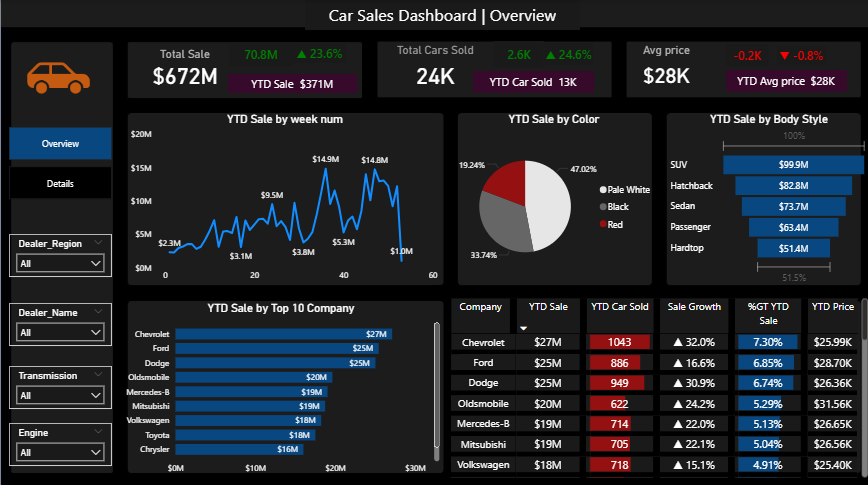

The page's visual inventory and layout, read from the dashboard file:
{"tool":"powerbi","page":{"name":"Overview","canvas":[1280,720],"ordinal":0},"visuals":[{"type":"advanceCardE03760C5AB684758B56AA29F9E6C257B","title":"Total Cars Sold","fields":{"mainMeasure":["car_data.Total_Cars_Sold"]},"box":[552.5,63.1,174.1,79.3],"z":0,"group":"g3"},{"type":"advanceCardE03760C5AB684758B56AA29F9E6C257B","title":"Avg price","fields":{"mainMeasure":["car_data.Avg Price"]},"box":[891.9,63.2,174.9,79.3],"z":0,"group":"g1"},{"type":"advanceCardE03760C5AB684758B56AA29F9E6C257B","title":"Total Sale","fields":{"mainMeasure":["car_data.Total Sale"]},"box":[179.3,69.1,185.1,67.6],"z":0,"group":"g2"},{"type":"slicer","fields":{"Values":["car_data.Transmission"]},"box":[13.2,537.8,151.3,63.2],"z":0},{"type":"advanceCardE03760C5AB684758B56AA29F9E6C257B","fields":{"mainMeasure":["car_data.YTD Price"]},"box":[1066.8,102.9,177.8,32.3],"z":1000,"group":"g4"},{"type":"advanceCardE03760C5AB684758B56AA29F9E6C257B","fields":{"mainMeasure":["car_data.YTD Sold"]},"box":[694.6,104.8,177.8,32.3],"z":1000,"group":"g3"},{"type":"advanceCardE03760C5AB684758B56AA29F9E6C257B","fields":{"mainMeasure":["car_data.YTD Sale"]},"box":[335.1,108.8,189.6,27.9],"z":1000,"group":"g2"},{"type":"slicer","fields":{"Values":["car_data.Engine"]},"box":[13.2,621.6,151.3,63.2],"z":1000},{"type":"shape","box":[799.4,63.1,72,32.3],"z":2000,"group":"g3"},{"type":"shape","box":[430.6,64.7,77.9,27.9],"z":2000,"group":"g2"},{"type":"shape","box":[1141.7,67.6,72,27.9],"z":2000,"group":"g4"},{"type":"slicer","fields":{"Values":["car_data.Dealer_Name"]},"box":[13.2,445.2,151.3,63.2],"z":2000},{"type":"funnel","title":"YTD Sale by Body Style","fields":{"Y":["car_data.YTD Sale"],"Category":["car_data.Body Style"]},"box":[980.1,164.6,299.8,258.6],"z":4000},{"type":"pieChart","title":"YTD Sale by Color","fields":{"Y":["car_data.YTD"],"Category":["car_data.Color"]},"box":[658.3,164.6,311.5,258.6],"z":5000},{"type":"pivotTable","title":"Company wise Sales Trend","fields":{"Rows":["car_data.Company"],"Values":["car_data.YTD Sale","car_data.YTD Sold","car_data.Sale Growth","Divide(car_data.YTD Sale, ScopedEval(car_data.YTD Sale, []))","car_data.YTD Price"]},"box":[658.3,433.5,621.6,273.3],"z":6000},{"type":"group","id":"g1","title":"Group 1","box":[891.9,63.2,174.9,79.3],"z":7000},{"type":"barChart","title":"YTD Sale by Top 10 Company","fields":{"Category":["car_data.Company"],"Y":["car_data.YTD Sale"]},"box":[174.9,442.3,476.1,264.5],"z":8000},{"type":"textbox","box":[448.2,0,404.1,44.1],"z":9000},{"type":"group","id":"g2","title":"Group 2","box":[179.3,63.2,345.3,73.5],"z":11000},{"type":"group","id":"g3","title":"Group 3","box":[552.5,60.2,319.9,82.3],"z":12000},{"type":"shape","box":[336.5,63.2,94,33.8],"z":12002,"group":"g2"},{"type":"shape","box":[725.9,60.2,73.5,38.2],"z":12004,"group":"g3"},{"type":"shape","box":[1066.8,64.7,63.2,32.3],"z":12004,"group":"g4"},{"type":"group","id":"g4","title":"Group 4","box":[1066.8,64.7,177.8,70.5],"z":13000},{"type":"areaChart","title":"YTD Sale by week num","fields":{"Category":["DateTable.week num"],"Y":["car_data.Total Sale"]},"box":[186.6,164.6,464.3,258.6],"z":13001},{"type":"slicer","fields":{"Values":["car_data.Dealer_Region"]},"box":[13.2,343.8,151.3,63.2],"z":13002},{"type":"pageNavigator","box":[13.2,186.6,151.3,107.3],"z":13003},{"type":"image","box":[0,64.7,171.9,99.9],"z":13004}]}

Visuals, with their boxes in screenshot pixels (x1, y1, x2, y2), scaled from the page's 1280x720 canvas onto the 868x485 screenshot:
"Total Cars Sold" advanceCardE03760C5AB684758B56AA29F9E6C257B: [x1=375, y1=43, x2=493, y2=96]
"Avg price" advanceCardE03760C5AB684758B56AA29F9E6C257B: [x1=605, y1=43, x2=723, y2=96]
"Total Sale" advanceCardE03760C5AB684758B56AA29F9E6C257B: [x1=122, y1=47, x2=247, y2=92]
slicer - car_data.Transmission: [x1=9, y1=362, x2=112, y2=405]
advanceCardE03760C5AB684758B56AA29F9E6C257B - car_data.YTD Price: [x1=723, y1=69, x2=844, y2=91]
advanceCardE03760C5AB684758B56AA29F9E6C257B - car_data.YTD Sold: [x1=471, y1=71, x2=592, y2=92]
advanceCardE03760C5AB684758B56AA29F9E6C257B - car_data.YTD Sale: [x1=227, y1=73, x2=356, y2=92]
slicer - car_data.Engine: [x1=9, y1=419, x2=112, y2=461]
shape: [x1=542, y1=43, x2=591, y2=64]
shape: [x1=292, y1=44, x2=345, y2=62]
shape: [x1=774, y1=46, x2=823, y2=64]
slicer - car_data.Dealer_Name: [x1=9, y1=300, x2=112, y2=342]
"YTD Sale by Body Style" funnel: [x1=665, y1=111, x2=867, y2=285]
"YTD Sale by Color" pieChart: [x1=446, y1=111, x2=658, y2=285]
"Company wise Sales Trend" pivotTable: [x1=446, y1=292, x2=867, y2=476]
"Group 1" group: [x1=605, y1=43, x2=723, y2=96]
"YTD Sale by Top 10 Company" barChart: [x1=119, y1=298, x2=441, y2=476]
textbox: [x1=304, y1=0, x2=578, y2=30]
"Group 2" group: [x1=122, y1=43, x2=356, y2=92]
"Group 3" group: [x1=375, y1=41, x2=592, y2=96]
shape: [x1=228, y1=43, x2=292, y2=65]
shape: [x1=492, y1=41, x2=542, y2=66]
shape: [x1=723, y1=44, x2=766, y2=65]
"Group 4" group: [x1=723, y1=44, x2=844, y2=91]
"YTD Sale by week num" areaChart: [x1=127, y1=111, x2=441, y2=285]
slicer - car_data.Dealer_Region: [x1=9, y1=232, x2=112, y2=274]
pageNavigator: [x1=9, y1=126, x2=112, y2=198]
image: [x1=0, y1=44, x2=117, y2=111]
